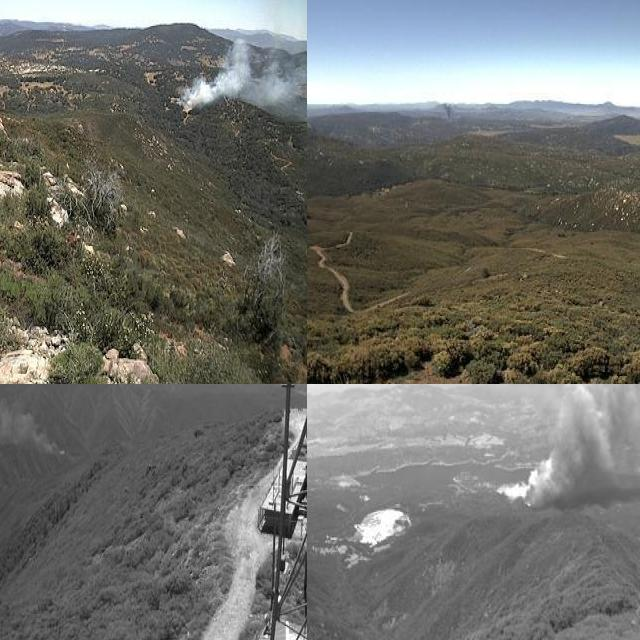smoke: (489, 384, 640, 503), (174, 27, 307, 116), (0, 384, 66, 462), (436, 95, 458, 124)
